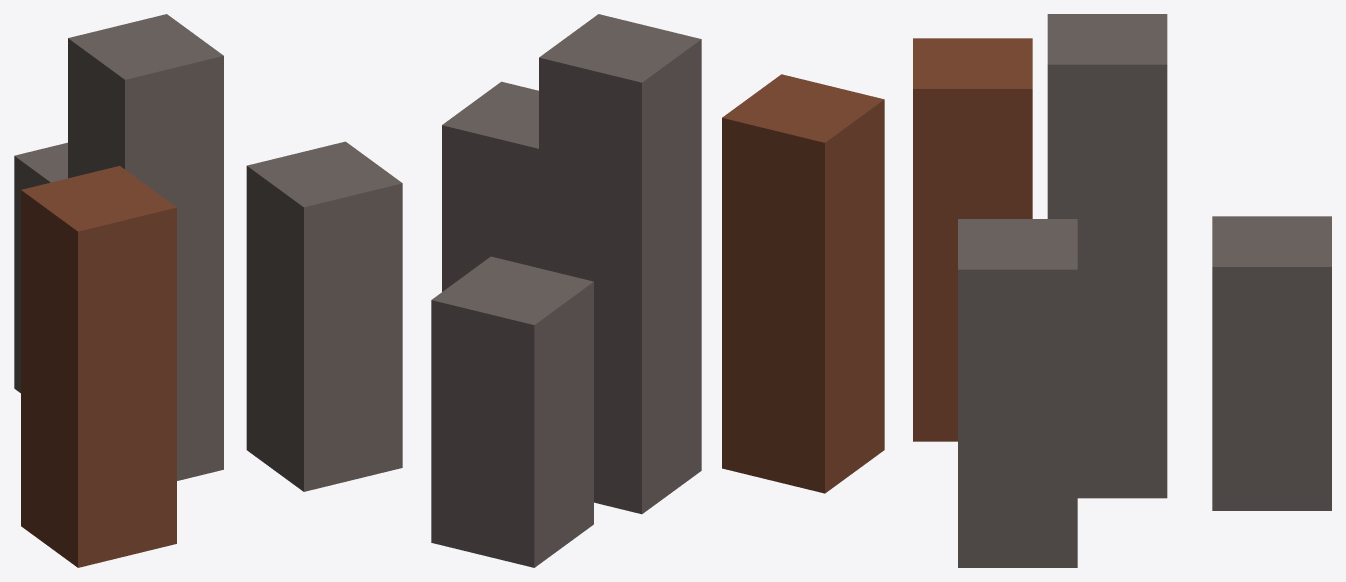
Rendered from AshTuft.glb.
The picture shows the model from 3 angles, left to right: view 1: azimuth 30°, elevation 25°; view 2: azimuth 150°, elevation 25°; view 3: azimuth 270°, elevation 25°; orthographic projection. The views are drawn at different scales.
Visible parts, largest first — view 1: AshTuft; view 2: AshTuft; view 3: AshTuft.
Part boxes in pixels (x1,y1,x2,y2): AshTuft: (14, 14, 402, 567); AshTuft: (431, 14, 884, 567); AshTuft: (913, 14, 1331, 567).
Size of the model in its own units: 1.4 by 1.6 by 1.4.
Materials: 1 (1 with a texture image).
